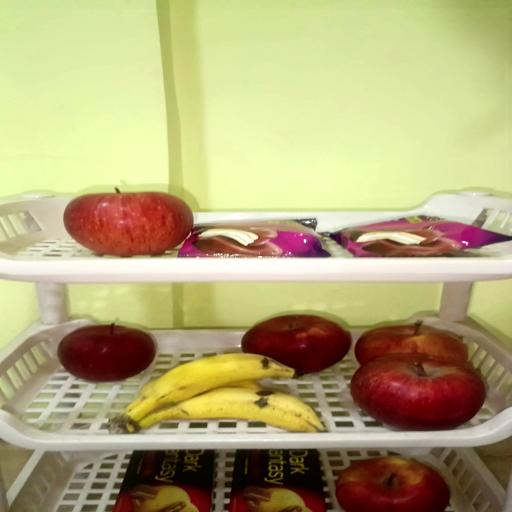Apple: (350, 354, 485, 430), (62, 189, 193, 259), (242, 315, 352, 376), (336, 456, 449, 510), (56, 324, 156, 383), (355, 323, 468, 366)
Choco Fills: (109, 448, 213, 510), (228, 447, 326, 510)
Choco Pie: (328, 216, 512, 259), (181, 220, 331, 260)
